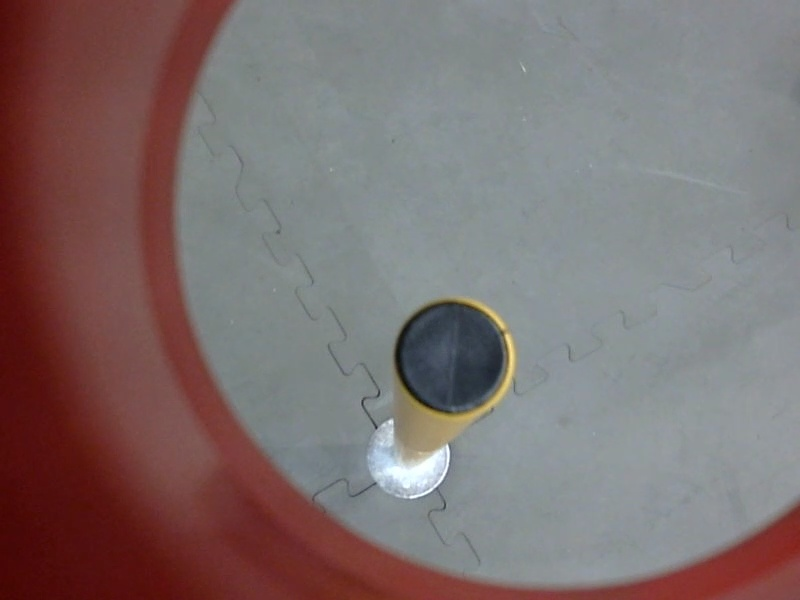tip: (388, 288, 524, 423)
